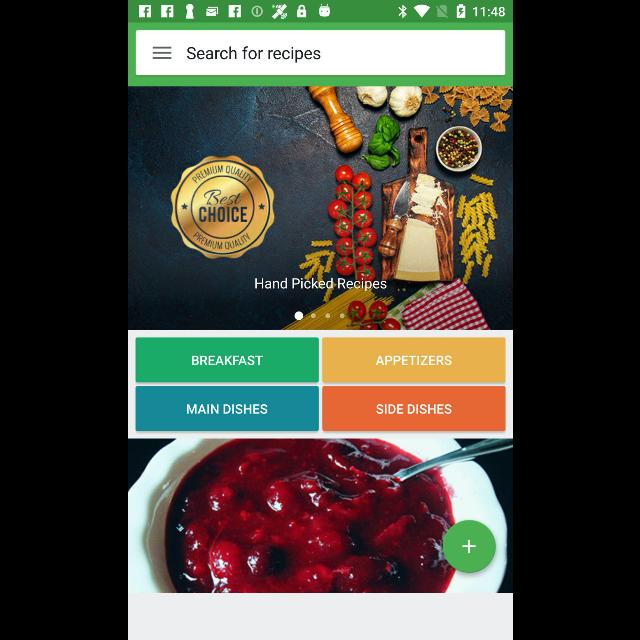button: (440, 520, 496, 572)
icon: (152, 47, 170, 59)
image: (128, 87, 512, 330), (128, 438, 512, 594)
input: (135, 30, 505, 76)
pageindicator: (294, 312, 344, 321)
text: (186, 46, 320, 64), (254, 278, 386, 292)
textbutton: (134, 386, 318, 432), (322, 386, 504, 432), (322, 338, 504, 382), (136, 338, 318, 382)
uppertaskbar: (128, 1, 512, 23)
